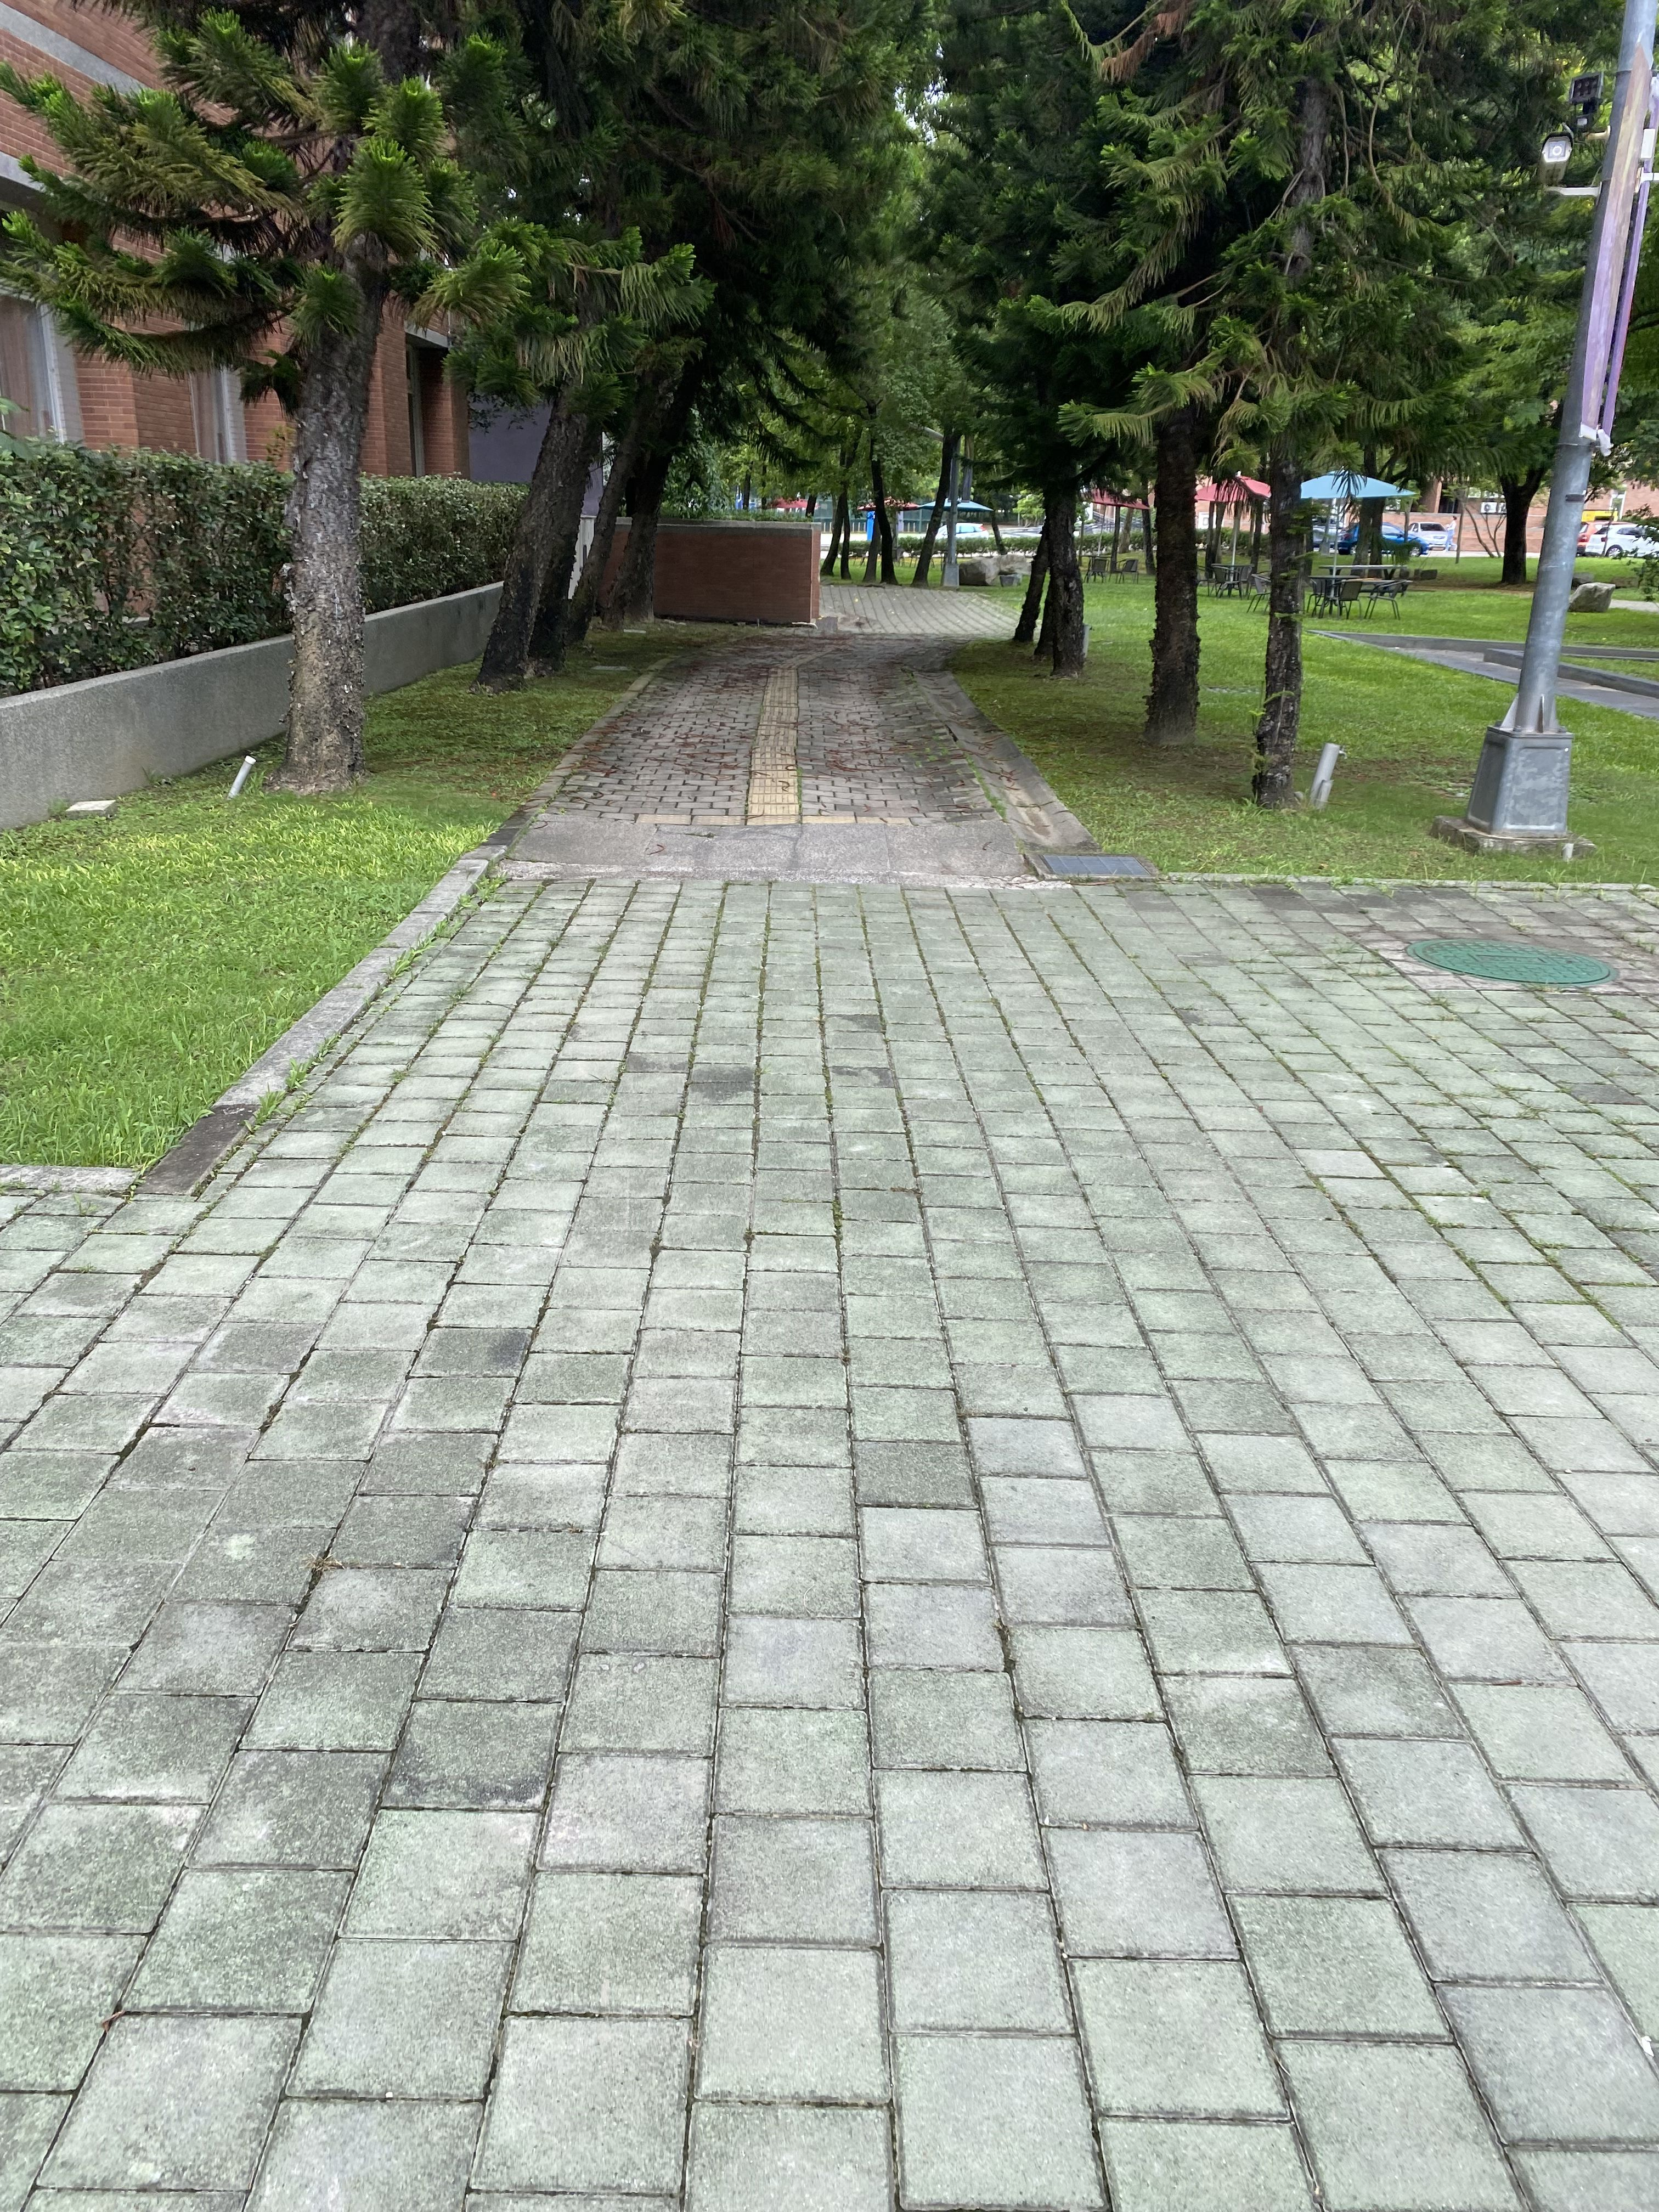sidewalk: (315, 585, 1338, 2212)
